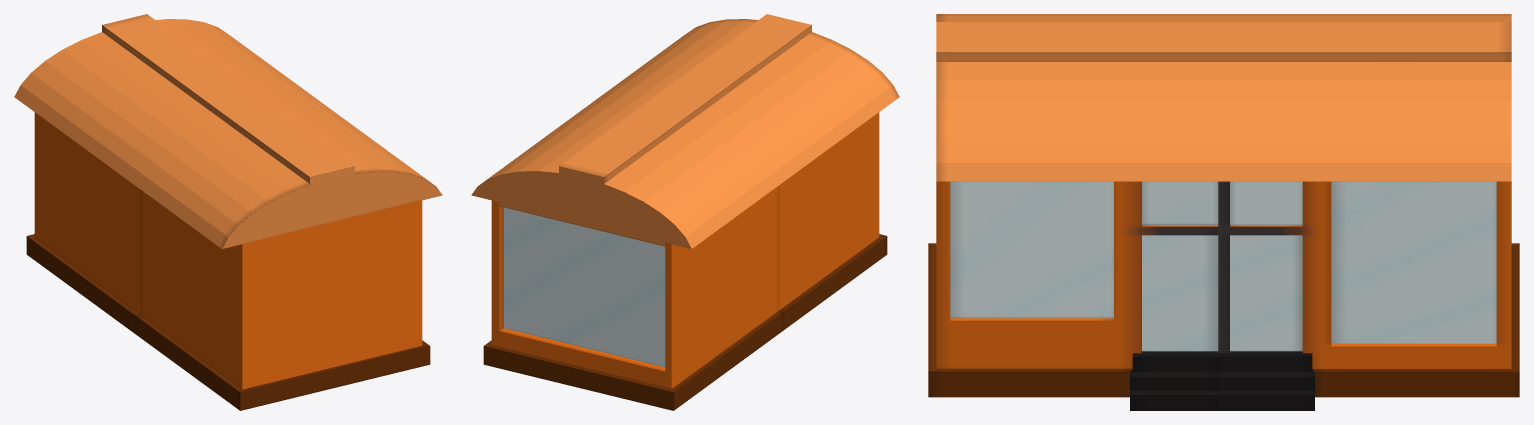
Rendered from OrangeStore.fbx.
The picture shows the model from 3 angles, left to right: view 1: azimuth 30°, elevation 25°; view 2: azimuth 150°, elevation 25°; view 3: azimuth 270°, elevation 25°; orthographic projection. The views are drawn at different scales.
Visible parts, largest first — view 1: Cube.001; view 2: Cube.001; view 3: Cube.001.
Boxes of the visible parts, x1,y1,x2,y2 form: Cube.001: (14, 14, 442, 410); Cube.001: (471, 14, 899, 410); Cube.001: (928, 14, 1519, 410).
Bounding box in the file's own units: 1002 × 909 × 1645.
